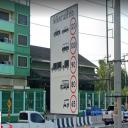speed_limit_100: (70, 36, 77, 55)
speed_limit_120: (70, 17, 77, 35)
speed_limit_80: (70, 75, 77, 94)
speed_limit_90: (70, 56, 77, 74)
